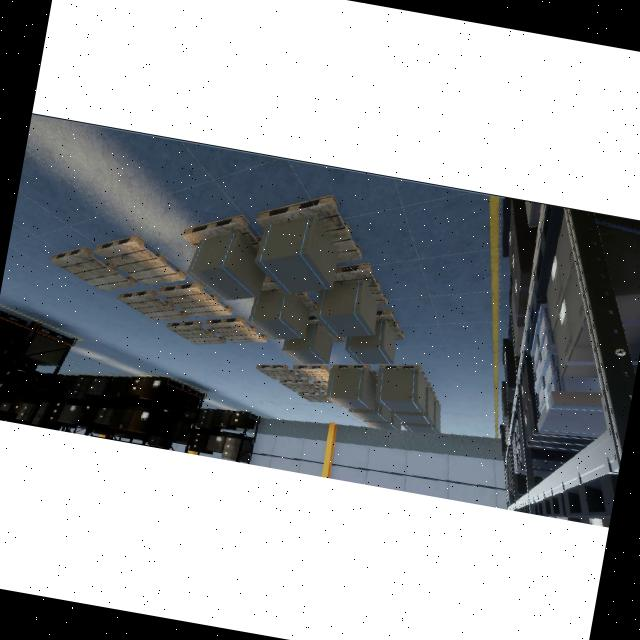wooden_pallet: (256, 195, 362, 262), (94, 235, 187, 285), (51, 247, 138, 291), (182, 215, 262, 252), (158, 282, 233, 318), (332, 263, 389, 307), (117, 289, 188, 322), (204, 317, 267, 344), (166, 321, 227, 345), (376, 308, 405, 340), (378, 365, 428, 383), (333, 364, 378, 382), (255, 364, 301, 380), (292, 365, 330, 382), (278, 378, 320, 392), (298, 391, 333, 403), (313, 380, 327, 393)
